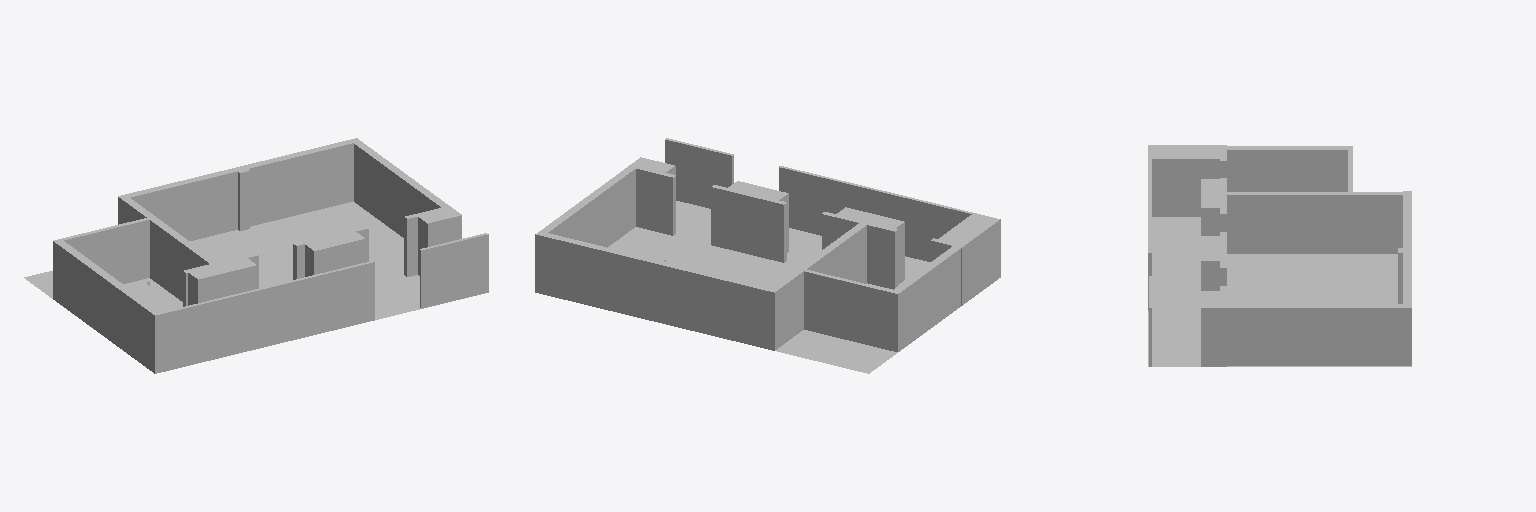
Rendered from Rest_collision.obj.
3 renders of one model, left to right at view 1: azimuth 30°, elevation 25°; view 2: azimuth 150°, elevation 25°; view 3: azimuth 270°, elevation 25°, orthographic.
Parts seen in each view (by area): view 1: wall_12_25, wall_3_7, ground_1, wall_13_27, wall_4_9, wall_6_13, wall_1_3, wall_5_11, wall_8_16, wall_9_19, wall_10_21, wall_11_23 (+3 smaller); view 2: wall_3_6, ground_1, wall_12_24, wall_1_2, wall_2_4, wall_6_13, wall_4_9, wall_5_11, wall_13_26, wall_8_16, wall_14_28, wall_15_30 (+2 smaller); view 3: ground_1, wall_4_8, wall_5_10, wall_6_12, wall_8_17, wall_11_23, wall_11_22, wall_9_19, wall_10_21, wall_3_6.
Boxes of the visible parts, x1=… form: wall_12_25: x1=154, y1=261, x2=374, y2=373; wall_3_7: x1=120, y1=141, x2=354, y2=240; ground_1: x1=24, y1=201, x2=472, y2=335; wall_13_27: x1=420, y1=234, x2=488, y2=308; wall_4_9: x1=354, y1=141, x2=446, y2=237; wall_6_13: x1=53, y1=240, x2=120, y2=344; wall_1_3: x1=59, y1=218, x2=152, y2=283; wall_5_11: x1=122, y1=197, x2=212, y2=301; wall_8_16: x1=116, y1=286, x2=166, y2=372; wall_9_19: x1=192, y1=261, x2=256, y2=304; wall_10_21: x1=308, y1=234, x2=365, y2=275; wall_11_23: x1=421, y1=211, x2=461, y2=248; wall_3_6: x1=535, y1=234, x2=776, y2=350; ground_1: x1=608, y1=201, x2=947, y2=373; wall_12_24: x1=779, y1=166, x2=999, y2=277; wall_1_2: x1=801, y1=270, x2=894, y2=350; wall_2_4: x1=711, y1=186, x2=785, y2=262; wall_6_13: x1=894, y1=247, x2=961, y2=351; wall_4_9: x1=542, y1=166, x2=636, y2=247; wall_5_11: x1=775, y1=223, x2=867, y2=346; wall_13_26: x1=665, y1=139, x2=732, y2=208; wall_8_16: x1=952, y1=217, x2=998, y2=305; wall_14_28: x1=822, y1=213, x2=895, y2=289; wall_15_30: x1=629, y1=166, x2=674, y2=235; ground_1: x1=1148, y1=217, x2=1411, y2=366; wall_4_8: x1=1223, y1=306, x2=1411, y2=365; wall_5_10: x1=1223, y1=193, x2=1406, y2=253; wall_6_12: x1=1223, y1=148, x2=1347, y2=191; wall_8_17: x1=1151, y1=152, x2=1226, y2=216; wall_11_23: x1=1201, y1=291, x2=1213, y2=366; wall_11_22: x1=1214, y1=291, x2=1226, y2=366; wall_9_19: x1=1201, y1=179, x2=1213, y2=235; wall_10_21: x1=1201, y1=236, x2=1213, y2=290; wall_3_6: x1=1407, y1=191, x2=1411, y2=307.
Size of the model in its own units: 1497 by 250 by 1024.